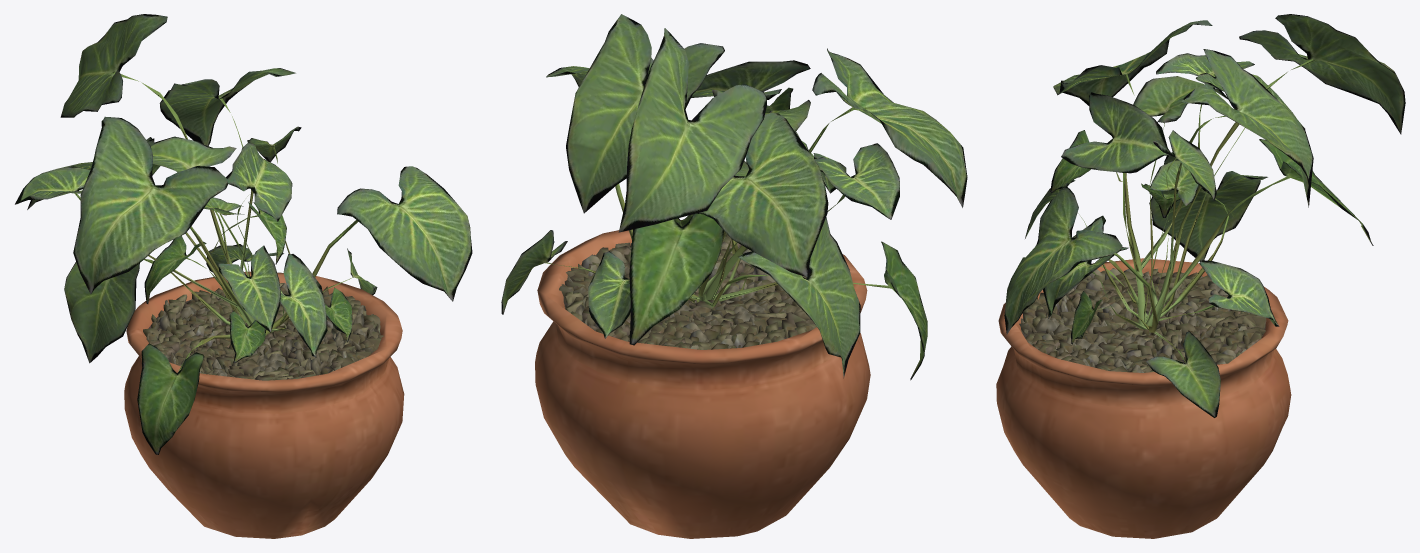
File: leafy-plant.glb
3 renders of one model, left to right at view 1: azimuth 30°, elevation 25°; view 2: azimuth 150°, elevation 25°; view 3: azimuth 270°, elevation 25°, orthographic. The views are drawn at different scales.
Parts seen in each view (by area): view 1: potted_plant_02_leaves, potted_plant_02_pot, potted_plant_02_dirt; view 2: potted_plant_02_leaves, potted_plant_02_pot, potted_plant_02_dirt; view 3: potted_plant_02_leaves, potted_plant_02_pot, potted_plant_02_dirt.
Part boxes in pixels (<box>): potted_plant_02_leaves: <box>15,14,472,454</box>; potted_plant_02_pot: <box>124,271,404,538</box>; potted_plant_02_dirt: <box>143,283,383,380</box>; potted_plant_02_leaves: <box>501,14,967,380</box>; potted_plant_02_pot: <box>535,220,870,538</box>; potted_plant_02_dirt: <box>559,233,816,349</box>; potted_plant_02_leaves: <box>1004,14,1405,417</box>; potted_plant_02_pot: <box>996,258,1291,538</box>; potted_plant_02_dirt: <box>1019,268,1266,372</box>.
Size of the model in its own units: 0.7009 by 0.8401 by 0.6561.
Materials: 2 (2 with a texture image).
